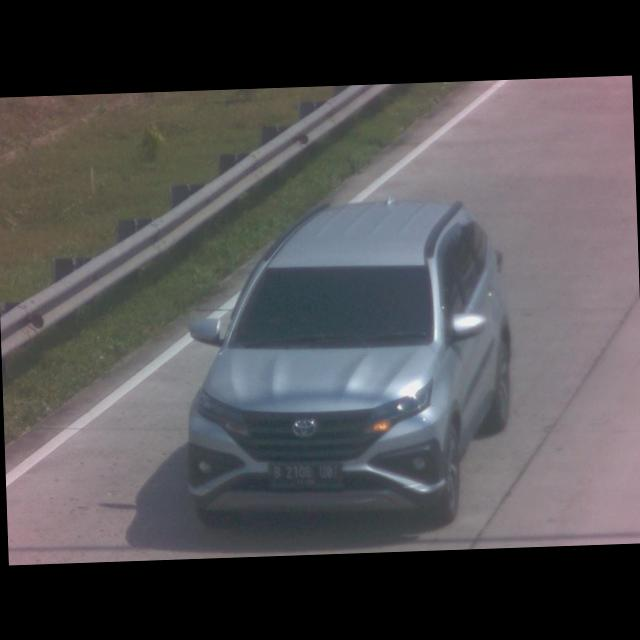plate: (265, 453, 344, 491)
